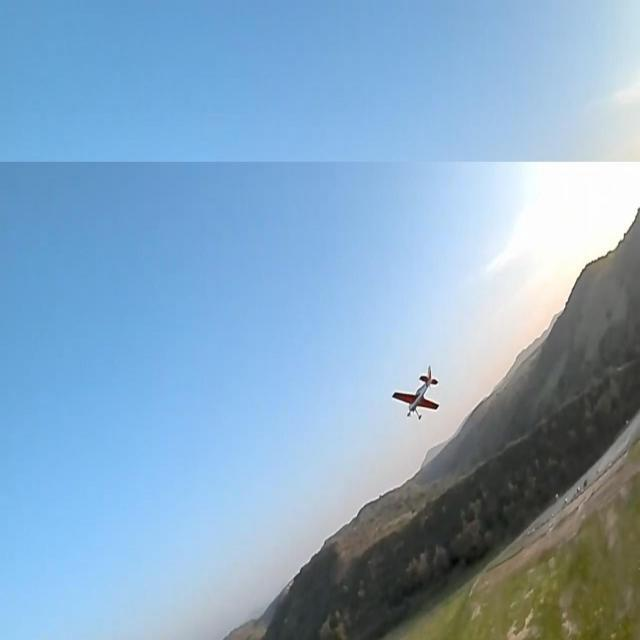UAV: (316, 358, 455, 460)
